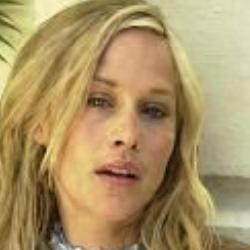face: (3, 2, 226, 249)
